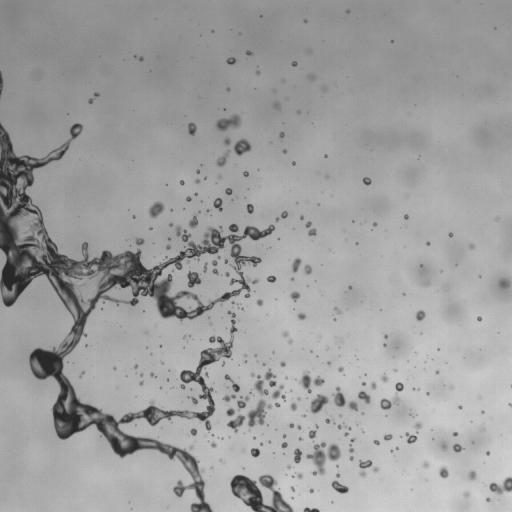droplet: (306, 441, 340, 475), (215, 114, 241, 131), (309, 393, 329, 413), (233, 138, 251, 156), (148, 201, 164, 218), (358, 459, 372, 477), (187, 270, 201, 287), (331, 480, 348, 494), (357, 390, 370, 404), (291, 257, 301, 273), (438, 465, 449, 479), (463, 470, 476, 481), (213, 197, 222, 212), (293, 448, 302, 463), (289, 290, 300, 302), (405, 432, 417, 443), (498, 278, 511, 288), (235, 52, 246, 63), (224, 126, 235, 137), (50, 138, 61, 149), (215, 143, 226, 154), (12, 146, 23, 157), (33, 148, 44, 159), (183, 171, 194, 182), (182, 184, 193, 195), (187, 201, 198, 212), (245, 215, 256, 226), (192, 234, 203, 245), (240, 236, 251, 247), (174, 239, 185, 250), (89, 248, 100, 259), (141, 257, 152, 268), (241, 262, 252, 273), (256, 268, 267, 279), (35, 273, 46, 284), (146, 296, 157, 307), (294, 299, 305, 310), (60, 365, 71, 376), (155, 366, 166, 377), (45, 375, 56, 386), (50, 383, 61, 394), (310, 384, 321, 395), (324, 388, 335, 399), (384, 388, 395, 399), (369, 391, 380, 402), (245, 399, 256, 410), (300, 399, 311, 410), (196, 400, 207, 411), (323, 400, 334, 411), (214, 401, 225, 412), (100, 404, 111, 415), (263, 408, 274, 419), (289, 411, 300, 422), (302, 419, 313, 430), (120, 422, 131, 433), (143, 426, 154, 437), (286, 428, 297, 439), (337, 440, 348, 451), (302, 443, 313, 454), (354, 450, 365, 461), (170, 456, 181, 467), (322, 458, 333, 469), (304, 459, 315, 470), (247, 470, 258, 481), (323, 471, 334, 482), (181, 473, 192, 484), (303, 474, 314, 485), (295, 479, 306, 490), (464, 479, 475, 490), (413, 421, 422, 434), (415, 310, 425, 321), (452, 443, 464, 452), (188, 122, 196, 135), (250, 447, 260, 457), (291, 471, 303, 479), (245, 203, 253, 214), (186, 428, 197, 436), (222, 110, 231, 119), (239, 116, 248, 125), (280, 138, 289, 147), (180, 220, 189, 229), (220, 228, 229, 237), (169, 248, 178, 257), (73, 252, 82, 261), (249, 292, 258, 301), (234, 293, 243, 302), (247, 295, 256, 304), (168, 314, 177, 323), (201, 340, 210, 349), (42, 342, 51, 351), (190, 380, 199, 389), (296, 385, 305, 394), (238, 386, 247, 395), (77, 394, 86, 403), (264, 395, 273, 404), (356, 398, 365, 407), (228, 399, 237, 408), (280, 400, 289, 409), (239, 407, 248, 416), (195, 419, 204, 428), (313, 434, 322, 443), (159, 435, 168, 444), (102, 440, 111, 449), (339, 448, 348, 457), (293, 462, 302, 471), (302, 470, 311, 479), (202, 486, 211, 495), (281, 492, 290, 501), (226, 57, 236, 65), (223, 136, 231, 146), (134, 237, 144, 245), (304, 264, 312, 274), (266, 275, 276, 283), (380, 373, 388, 383), (383, 433, 393, 441), (307, 73, 316, 81), (273, 101, 281, 110), (362, 177, 371, 185), (333, 306, 342, 314), (297, 312, 306, 320), (182, 334, 191, 342), (292, 505, 303, 511), (308, 228, 316, 236), (225, 188, 233, 195), (256, 298, 263, 306), (370, 381, 377, 389), (440, 443, 447, 451), (422, 460, 429, 468), (0, 256, 5, 267), (242, 170, 249, 177), (210, 441, 217, 448), (372, 466, 379, 473), (225, 51, 232, 58), (93, 96, 100, 103), (209, 120, 216, 127), (3, 124, 10, 131), (8, 135, 15, 142), (229, 138, 236, 145), (247, 138, 254, 145), (227, 142, 234, 149), (216, 150, 223, 157), (229, 150, 236, 157), (242, 150, 249, 157), (217, 165, 224, 172), (31, 167, 38, 174), (192, 184, 199, 191), (24, 187, 31, 194), (220, 193, 227, 200), (147, 199, 154, 206), (142, 208, 149, 215), (156, 212, 163, 219), (257, 224, 264, 231), (186, 226, 193, 233), (168, 227, 175, 234), (236, 228, 243, 235), (47, 231, 54, 238), (56, 247, 63, 254), (110, 249, 117, 256), (94, 251, 101, 258), (286, 259, 293, 266), (297, 263, 304, 270), (23, 285, 30, 292), (21, 288, 28, 295), (223, 298, 230, 305), (95, 299, 102, 306), (295, 306, 302, 313), (201, 310, 208, 317), (85, 315, 92, 322), (67, 319, 74, 326), (82, 325, 89, 332), (288, 331, 295, 338), (222, 335, 229, 342), (212, 341, 219, 348), (27, 345, 34, 352), (246, 354, 253, 361), (61, 356, 68, 363), (331, 362, 338, 369), (203, 363, 210, 370), (295, 372, 302, 379), (308, 372, 315, 379), (142, 373, 149, 380), (274, 376, 281, 383), (203, 378, 210, 385), (375, 378, 382, 385), (162, 381, 169, 388), (262, 381, 269, 388), (267, 386, 274, 393), (363, 386, 370, 393), (227, 387, 234, 394), (309, 392, 316, 399), (50, 395, 57, 402), (343, 395, 350, 402), (275, 396, 282, 403), (90, 400, 97, 407), (141, 402, 148, 409), (163, 404, 170, 411), (306, 410, 313, 417), (46, 411, 53, 418), (113, 414, 120, 421), (139, 416, 146, 423), (242, 416, 249, 423), (160, 417, 167, 424), (318, 420, 325, 427), (117, 422, 124, 429), (253, 422, 260, 429), (89, 423, 96, 430), (283, 426, 290, 433), (408, 428, 415, 435), (50, 430, 57, 437), (72, 431, 79, 438), (301, 431, 308, 438), (452, 436, 459, 443), (171, 440, 178, 447), (446, 445, 453, 452), (307, 447, 314, 454), (134, 448, 141, 455), (152, 448, 159, 455), (188, 449, 195, 456), (112, 452, 119, 459), (124, 452, 131, 459), (160, 452, 167, 459), (299, 453, 306, 460), (352, 458, 359, 465), (310, 463, 317, 470), (364, 466, 371, 473), (446, 466, 453, 473), (462, 468, 469, 475), (240, 469, 247, 476), (200, 472, 207, 479), (227, 472, 234, 479), (291, 477, 298, 484), (338, 478, 345, 485), (496, 479, 503, 486), (488, 490, 495, 497), (203, 495, 210, 502), (278, 131, 284, 139), (149, 372, 157, 378), (286, 463, 294, 469), (506, 272, 511, 281), (244, 506, 253, 511), (305, 221, 311, 228), (468, 243, 475, 249), (164, 244, 171, 250), (423, 280, 430, 286), (288, 422, 294, 429), (463, 491, 469, 498), (245, 50, 253, 55), (317, 334, 322, 342), (194, 178, 200, 184), (373, 439, 379, 445), (281, 442, 287, 448), (290, 485, 295, 492), (291, 61, 297, 66), (321, 86, 327, 91), (216, 174, 222, 179), (179, 180, 185, 185), (494, 216, 499, 222), (280, 361, 285, 367), (326, 360, 331, 366), (274, 402, 280, 407), (507, 490, 511, 497), (184, 507, 191, 511), (255, 70, 260, 75), (282, 148, 287, 153), (324, 174, 329, 179), (186, 196, 191, 201), (206, 208, 211, 213), (404, 214, 409, 219), (168, 222, 173, 227), (448, 232, 453, 237), (225, 272, 230, 277), (477, 316, 482, 321), (361, 381, 366, 386), (308, 488, 313, 493), (486, 497, 491, 502), (240, 49, 245, 54), (290, 56, 295, 61), (134, 58, 139, 63), (230, 63, 235, 68), (1, 75, 6, 80), (1, 81, 6, 86), (88, 93, 93, 98), (83, 97, 88, 102), (73, 118, 78, 123), (191, 118, 196, 123), (68, 121, 73, 126), (183, 126, 188, 131), (193, 130, 198, 135), (274, 130, 279, 135), (66, 133, 71, 138), (187, 133, 192, 138), (75, 135, 80, 140), (279, 144, 284, 149), (29, 152, 34, 157), (62, 152, 67, 157), (50, 159, 55, 164), (196, 173, 201, 178), (31, 181, 36, 186), (189, 193, 194, 198), (228, 193, 233, 198), (181, 194, 186, 199), (196, 194, 201, 199), (248, 199, 253, 204), (220, 202, 225, 207), (252, 206, 257, 211), (242, 207, 247, 212), (200, 208, 205, 213), (187, 215, 192, 220), (196, 216, 201, 221), (278, 217, 283, 222), (42, 218, 47, 223), (302, 218, 307, 223), (228, 219, 233, 224), (270, 219, 275, 224), (172, 221, 177, 226), (247, 221, 252, 226), (273, 222, 278, 227), (213, 224, 218, 229), (308, 224, 313, 229), (219, 232, 224, 237), (137, 233, 142, 238), (264, 234, 269, 239), (50, 236, 55, 241), (187, 236, 192, 241), (257, 237, 262, 242), (164, 239, 169, 244), (168, 240, 173, 245), (76, 244, 81, 249), (138, 244, 143, 249), (103, 245, 108, 250), (131, 248, 136, 253), (239, 250, 244, 255), (254, 252, 259, 257), (87, 256, 92, 261), (289, 257, 294, 262), (287, 265, 292, 270), (310, 265, 315, 270), (310, 269, 315, 274), (291, 272, 296, 277), (306, 273, 311, 278), (246, 281, 251, 286), (46, 282, 51, 287), (48, 285, 53, 290), (295, 287, 300, 292), (241, 288, 246, 293), (51, 290, 56, 295), (298, 290, 303, 295), (136, 294, 141, 299), (229, 295, 234, 300), (97, 297, 102, 302), (288, 297, 293, 302), (295, 297, 300, 302), (57, 299, 62, 304), (104, 299, 109, 304), (262, 299, 267, 304), (12, 301, 17, 306), (110, 301, 115, 306), (118, 301, 123, 306), (214, 301, 219, 306), (126, 303, 131, 308), (253, 303, 258, 308), (337, 304, 342, 309), (415, 306, 420, 311), (230, 307, 235, 312), (422, 307, 427, 312), (299, 308, 304, 313), (304, 311, 309, 316), (424, 311, 429, 316), (334, 313, 339, 318), (411, 315, 416, 320), (183, 316, 188, 321), (421, 317, 426, 322), (299, 318, 304, 323), (227, 322, 232, 327), (233, 322, 238, 327), (280, 326, 285, 331), (79, 334, 84, 339), (282, 336, 287, 341), (383, 338, 388, 343), (145, 348, 150, 353), (312, 350, 317, 355), (222, 356, 227, 361), (279, 356, 284, 361), (25, 364, 30, 369), (136, 367, 141, 372), (191, 367, 196, 372), (270, 368, 275, 373), (342, 368, 347, 373), (27, 369, 32, 374), (175, 371, 180, 376), (229, 373, 234, 378), (30, 374, 35, 379), (319, 374, 324, 379), (259, 375, 264, 380), (252, 376, 257, 381), (361, 376, 366, 381), (178, 379, 183, 384), (234, 379, 239, 384), (166, 381, 171, 386), (227, 381, 232, 386), (365, 381, 370, 386), (184, 382, 189, 387), (402, 385, 407, 390), (302, 387, 307, 392), (252, 388, 257, 393), (339, 388, 344, 393), (279, 389, 284, 394), (397, 390, 402, 395), (209, 391, 214, 396), (234, 391, 239, 396), (284, 393, 289, 398), (194, 394, 199, 399), (234, 395, 239, 400), (386, 395, 391, 400), (187, 398, 192, 403), (295, 400, 300, 405), (153, 402, 158, 407), (321, 403, 326, 408), (390, 403, 395, 408), (178, 406, 183, 411), (383, 408, 388, 413), (288, 409, 293, 414), (170, 415, 175, 420), (206, 415, 211, 420), (262, 416, 267, 421), (414, 416, 419, 421), (194, 417, 199, 422), (131, 418, 136, 423), (286, 418, 291, 423), (200, 419, 205, 424), (236, 425, 241, 430), (310, 425, 315, 430), (227, 426, 232, 431), (209, 427, 214, 432), (96, 430, 101, 435), (195, 431, 200, 436), (314, 431, 319, 436), (447, 431, 452, 436), (346, 434, 351, 439), (54, 435, 59, 440), (402, 435, 407, 440), (209, 436, 214, 441), (280, 437, 285, 442), (378, 437, 383, 442), (214, 438, 219, 443), (414, 439, 419, 444), (262, 440, 267, 445), (325, 441, 330, 446), (410, 441, 415, 446), (459, 441, 464, 446), (254, 443, 259, 448), (178, 444, 183, 449), (282, 447, 287, 452), (392, 449, 397, 454), (459, 449, 464, 454), (246, 450, 251, 455), (290, 452, 295, 457), (257, 453, 262, 458), (249, 455, 254, 460), (361, 456, 366, 461), (332, 459, 337, 464), (196, 462, 201, 467), (370, 462, 375, 467), (470, 465, 475, 470), (356, 466, 361, 471), (423, 467, 428, 472), (288, 469, 293, 474), (260, 470, 265, 475), (374, 471, 379, 476), (315, 472, 320, 477), (435, 472, 440, 477), (475, 472, 480, 477), (272, 474, 277, 479), (331, 475, 336, 480), (357, 475, 362, 480), (443, 476, 448, 481), (485, 480, 490, 485), (172, 481, 177, 486), (226, 484, 231, 489), (272, 484, 277, 489), (347, 487, 352, 492), (334, 490, 339, 495), (170, 491, 175, 496), (340, 492, 345, 497), (232, 495, 237, 500), (195, 498, 200, 503), (209, 504, 214, 509), (308, 504, 313, 509), (299, 214, 303, 220), (134, 363, 138, 369), (139, 380, 143, 386), (297, 424, 301, 430), (452, 432, 458, 436), (0, 298, 3, 305), (345, 9, 350, 13), (372, 222, 377, 226), (392, 368, 397, 372), (139, 372, 143, 377), (355, 422, 360, 426), (344, 432, 349, 436), (282, 434, 286, 439), (298, 437, 303, 441), (240, 448, 245, 452), (486, 450, 490, 455), (349, 456, 353, 461), (336, 472, 340, 477), (196, 168, 199, 174), (303, 19, 307, 23), (226, 87, 230, 91), (296, 110, 300, 114), (291, 161, 295, 165), (167, 237, 171, 241), (426, 241, 430, 245), (290, 277, 294, 281), (348, 285, 352, 289), (208, 322, 212, 326), (160, 360, 164, 364), (262, 362, 266, 366), (112, 366, 116, 370), (435, 370, 439, 374), (284, 375, 288, 379), (458, 405, 462, 409), (360, 411, 364, 415), (338, 414, 342, 418), (259, 442, 263, 446), (209, 466, 213, 470), (301, 414, 306, 417), (508, 283, 511, 288), (508, 472, 511, 477), (211, 29, 214, 33), (324, 154, 327, 158), (203, 176, 206, 180), (194, 192, 197, 196), (132, 214, 135, 218), (148, 227, 152, 230), (355, 241, 358, 245), (454, 262, 457, 266), (419, 264, 423, 267), (440, 269, 443, 273), (142, 309, 145, 313), (333, 318, 337, 321), (144, 331, 148, 334), (383, 343, 386, 347), (310, 349, 313, 353), (254, 353, 257, 357), (243, 354, 247, 357), (243, 360, 247, 363), (166, 378, 169, 382), (450, 385, 453, 389), (508, 403, 511, 407), (481, 410, 484, 414), (482, 427, 485, 431), (211, 433, 214, 437), (228, 435, 231, 439), (399, 435, 402, 439), (252, 436, 256, 439), (267, 440, 271, 443), (395, 446, 398, 450), (390, 449, 393, 453), (290, 496, 294, 499), (0, 272, 2, 277), (259, 14, 262, 17), (238, 32, 241, 35), (390, 40, 393, 43), (170, 208, 173, 211), (277, 237, 280, 240), (328, 248, 331, 251), (171, 269, 174, 272), (478, 275, 481, 278), (402, 292, 405, 295), (100, 307, 103, 310), (159, 344, 162, 347), (149, 352, 152, 355), (159, 386, 162, 389), (289, 389, 292, 392), (426, 392, 429, 395), (430, 428, 433, 431), (471, 441, 474, 444), (282, 452, 285, 455), (259, 11, 262, 14), (256, 13, 259, 16), (260, 16, 263, 19), (301, 21, 304, 24), (306, 21, 309, 24), (390, 36, 393, 39), (387, 39, 390, 42), (393, 39, 396, 42), (389, 42, 392, 45), (249, 48, 252, 51), (132, 51, 135, 54), (246, 54, 249, 57), (233, 55, 236, 58), (131, 56, 134, 59), (140, 60, 143, 63), (227, 63, 230, 66), (291, 65, 294, 68), (256, 67, 259, 70), (229, 86, 232, 89), (94, 89, 97, 92), (0, 90, 3, 93), (92, 99, 95, 102), (88, 103, 91, 106), (222, 104, 225, 107), (220, 108, 223, 111), (187, 120, 190, 123), (283, 131, 286, 134), (283, 134, 286, 137), (285, 147, 288, 150), (48, 148, 51, 151), (280, 151, 283, 154), (285, 151, 288, 154), (321, 153, 324, 156), (327, 154, 330, 157), (415, 154, 418, 157), (324, 157, 327, 160), (199, 160, 202, 163), (295, 161, 298, 164), (289, 163, 292, 166), (292, 165, 295, 168), (241, 168, 244, 171), (199, 169, 202, 172), (240, 173, 243, 176), (366, 174, 369, 177), (246, 175, 249, 178), (206, 176, 209, 179), (215, 178, 218, 181), (183, 179, 186, 182), (163, 180, 166, 183), (360, 180, 363, 183), (177, 182, 180, 185), (183, 182, 186, 185), (167, 183, 170, 186), (363, 183, 366, 186), (368, 183, 371, 186), (180, 184, 183, 187), (163, 185, 166, 188), (228, 185, 231, 188), (194, 189, 197, 192), (197, 192, 200, 195), (212, 197, 215, 200), (233, 197, 236, 200), (185, 200, 188, 203), (188, 200, 191, 203), (292, 200, 295, 203), (319, 202, 322, 205), (171, 205, 174, 208), (38, 206, 41, 209), (40, 209, 43, 212), (172, 209, 175, 212), (286, 209, 289, 212), (194, 210, 197, 213), (207, 211, 210, 214), (407, 212, 410, 215), (129, 214, 132, 217), (286, 214, 289, 217), (135, 215, 138, 218), (278, 215, 281, 218), (297, 215, 300, 218), (401, 216, 404, 219), (353, 217, 356, 220), (348, 219, 351, 222), (166, 220, 169, 223), (354, 220, 357, 223), (376, 221, 379, 224), (147, 224, 150, 227), (371, 225, 374, 228), (149, 229, 152, 232), (450, 229, 453, 232), (271, 230, 274, 233), (315, 230, 318, 233), (452, 232, 455, 235), (310, 234, 313, 237), (446, 235, 449, 238), (451, 235, 454, 238), (279, 236, 282, 239), (355, 238, 358, 241), (426, 238, 429, 241), (352, 240, 355, 243), (429, 241, 432, 244), (355, 244, 358, 247), (424, 244, 427, 247), (181, 248, 184, 251), (267, 248, 270, 251), (419, 260, 422, 263), (452, 260, 455, 263), (416, 263, 419, 266), (422, 264, 425, 267), (239, 268, 242, 271), (442, 268, 445, 271), (268, 272, 271, 275), (242, 273, 245, 276), (273, 273, 276, 276), (481, 274, 484, 277), (287, 277, 290, 280), (348, 282, 351, 285), (351, 285, 354, 288), (345, 287, 348, 290), (402, 289, 405, 292), (399, 293, 402, 296), (402, 295, 405, 298), (259, 296, 262, 299), (244, 297, 247, 300), (135, 302, 138, 305), (332, 303, 335, 306), (239, 304, 242, 307), (243, 306, 246, 309), (289, 307, 292, 310), (65, 309, 68, 312), (332, 310, 335, 313), (143, 311, 146, 314), (234, 311, 237, 314), (478, 313, 481, 316), (474, 315, 477, 318), (480, 319, 483, 322), (332, 320, 335, 323), (476, 320, 479, 323), (232, 331, 235, 334), (185, 332, 188, 335), (386, 332, 389, 335), (180, 333, 183, 336), (209, 333, 212, 336), (381, 333, 384, 336), (190, 334, 193, 337), (291, 341, 294, 344), (231, 342, 234, 345), (339, 343, 342, 346), (156, 344, 159, 347), (161, 344, 164, 347), (184, 344, 187, 347), (334, 344, 337, 347), (380, 344, 383, 347), (436, 344, 439, 347), (86, 345, 89, 348), (142, 345, 145, 348), (309, 346, 312, 349), (383, 346, 386, 349), (433, 347, 436, 350), (439, 347, 442, 350), (253, 350, 256, 353), (274, 350, 277, 353), (307, 351, 310, 354), (269, 352, 272, 355), (230, 354, 233, 357), (318, 354, 321, 357), (356, 354, 359, 357), (244, 356, 247, 359), (254, 356, 257, 359), (353, 356, 356, 359), (327, 357, 330, 360), (161, 358, 164, 361), (262, 359, 265, 362), (324, 359, 327, 362), (330, 359, 333, 362), (246, 360, 249, 363), (157, 361, 160, 364), (259, 361, 262, 364), (243, 362, 246, 365), (285, 362, 288, 365), (131, 363, 134, 366), (223, 363, 226, 366), (325, 363, 328, 366), (393, 365, 396, 368), (131, 366, 134, 369), (115, 367, 118, 370), (434, 367, 437, 370), (110, 368, 113, 371), (164, 368, 167, 371), (335, 368, 338, 371), (78, 370, 81, 373), (432, 370, 435, 373), (339, 371, 342, 374), (438, 371, 441, 374), (153, 372, 156, 375), (254, 372, 257, 375), (366, 372, 369, 375), (435, 373, 438, 376), (81, 374, 84, 377), (127, 374, 130, 377), (221, 374, 224, 377), (287, 375, 290, 378), (156, 376, 159, 379), (139, 377, 142, 380), (163, 377, 166, 380), (168, 378, 171, 381), (323, 378, 326, 381), (397, 379, 400, 382), (394, 380, 397, 383), (400, 380, 403, 383), (142, 381, 145, 384), (358, 381, 361, 384), (136, 383, 139, 386), (507, 384, 510, 387), (156, 385, 159, 388), (392, 385, 395, 388), (414, 385, 417, 388), (159, 388, 162, 391), (170, 388, 173, 391), (180, 388, 183, 391), (393, 388, 396, 391), (425, 388, 428, 391), (410, 389, 413, 392), (423, 392, 426, 395), (248, 393, 251, 396), (398, 401, 401, 404), (458, 402, 461, 405), (272, 404, 275, 407), (461, 405, 464, 408), (507, 405, 510, 408), (276, 406, 279, 409), (455, 406, 458, 409), (481, 407, 484, 410), (351, 408, 354, 411), (478, 411, 481, 414), (412, 412, 415, 415), (481, 413, 484, 416), (360, 414, 363, 417), (408, 415, 411, 418), (322, 419, 325, 422), (329, 420, 332, 423), (324, 422, 327, 425), (335, 422, 338, 425), (346, 423, 349, 426), (358, 423, 361, 426), (293, 424, 296, 427), (286, 425, 289, 428), (300, 425, 303, 428), (350, 425, 353, 428), (289, 427, 292, 430), (362, 427, 365, 430), (417, 428, 420, 431), (453, 428, 456, 431), (346, 429, 349, 432), (385, 431, 388, 434), (413, 432, 416, 435), (189, 433, 192, 436), (391, 433, 394, 436), (218, 434, 221, 437), (279, 434, 282, 437), (223, 436, 226, 439), (249, 436, 252, 439), (295, 436, 298, 439), (428, 437, 431, 440), (270, 439, 273, 442), (387, 439, 390, 442), (432, 439, 435, 442), (347, 440, 350, 443), (208, 441, 211, 444), (286, 441, 289, 444), (350, 441, 353, 444), (278, 443, 281, 446), (373, 443, 376, 446), (392, 447, 395, 450), (299, 448, 302, 451), (484, 448, 487, 451), (387, 450, 390, 453), (455, 451, 458, 454), (489, 451, 492, 454), (349, 452, 352, 455), (483, 452, 486, 455), (272, 453, 275, 456), (221, 458, 224, 461), (347, 459, 350, 462), (218, 461, 221, 464), (334, 470, 337, 473), (309, 472, 312, 475), (288, 475, 291, 478), (329, 480, 332, 483), (293, 486, 296, 489), (306, 487, 309, 490), (313, 488, 316, 491), (306, 490, 309, 493), (310, 492, 313, 495), (483, 499, 486, 502), (327, 500, 330, 503), (486, 501, 489, 504), (330, 503, 333, 506), (165, 182, 167, 186), (272, 350, 274, 354), (336, 464, 338, 468), (223, 108, 226, 110), (257, 168, 259, 171), (244, 196, 246, 199), (200, 200, 202, 203), (296, 201, 298, 204), (317, 203, 319, 206), (183, 207, 185, 210), (352, 220, 354, 223), (292, 227, 295, 229), (125, 239, 128, 241), (274, 298, 277, 300), (208, 316, 210, 319), (85, 344, 87, 347), (146, 346, 148, 349), (182, 346, 184, 349), (125, 374, 127, 377), (306, 396, 308, 399), (272, 452, 275, 454), (285, 472, 287, 475), (130, 507, 132, 510), (509, 400, 511, 403), (130, 509, 133, 511), (494, 27, 496, 29), (256, 65, 258, 67), (200, 164, 202, 166), (215, 182, 217, 184), (209, 214, 211, 216), (314, 280, 316, 282), (253, 290, 255, 292), (225, 327, 227, 329), (420, 332, 422, 334), (338, 346, 340, 348), (437, 348, 439, 350), (316, 355, 318, 357), (356, 358, 358, 360), (431, 358, 433, 360), (256, 360, 258, 362), (407, 360, 409, 362), (424, 361, 426, 363), (168, 369, 170, 371), (364, 373, 366, 375), (358, 376, 360, 378), (226, 386, 228, 388), (190, 388, 192, 390), (385, 414, 387, 416), (470, 420, 472, 422), (134, 424, 136, 426), (275, 428, 277, 430), (432, 437, 434, 439), (207, 440, 209, 442), (242, 467, 244, 469), (331, 501, 333, 503), (247, 188, 249, 189), (231, 199, 233, 200), (129, 245, 131, 246), (380, 309, 382, 310), (159, 336, 161, 337), (483, 462, 485, 463), (128, 209, 129, 210), (154, 256, 155, 257), (293, 308, 294, 309), (445, 362, 446, 363)
ligament: (331, 386, 358, 411), (380, 382, 403, 409), (482, 476, 511, 494), (216, 149, 231, 167), (224, 374, 239, 392), (187, 210, 201, 229), (0, 70, 7, 98), (308, 423, 318, 442), (289, 396, 301, 411), (281, 330, 293, 344), (275, 210, 288, 222), (88, 92, 100, 104), (348, 437, 356, 453), (231, 301, 243, 311), (337, 422, 351, 430), (187, 396, 198, 405), (133, 54, 143, 61), (338, 366, 345, 376), (303, 507, 319, 511), (78, 370, 85, 378), (203, 262, 207, 273), (219, 458, 225, 464), (383, 331, 388, 338), (412, 387, 420, 391), (409, 413, 417, 417), (221, 360, 225, 367), (216, 436, 223, 439), (360, 428, 364, 433), (326, 345, 329, 351), (169, 386, 176, 388), (267, 246, 271, 249), (414, 351, 417, 354), (23, 231, 27, 233), (230, 445, 232, 449), (510, 384, 511, 388), (211, 383, 214, 384)
